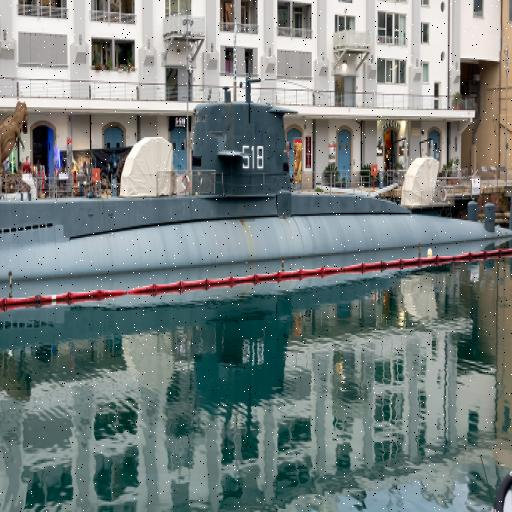submarine: (1, 84, 512, 308)
